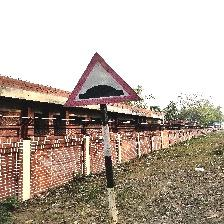Speed-breaker: (62, 52, 142, 106)
